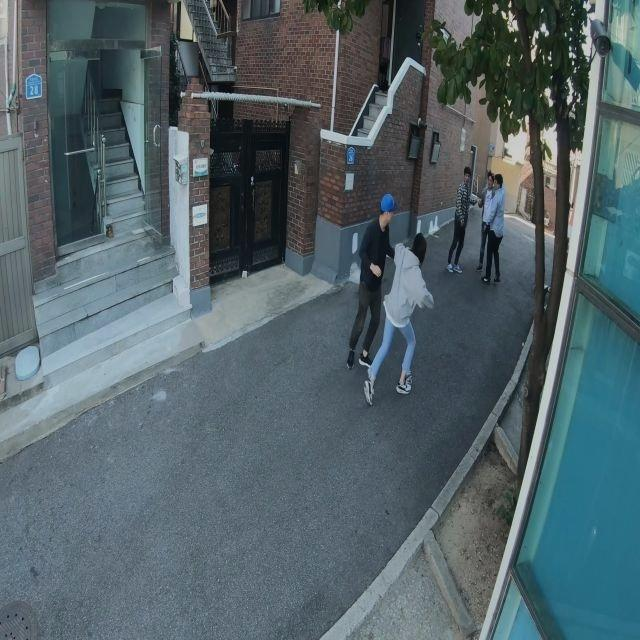fight: (345, 192, 432, 398)
non-fight: (448, 164, 473, 276), (481, 174, 505, 284), (478, 171, 494, 270)
